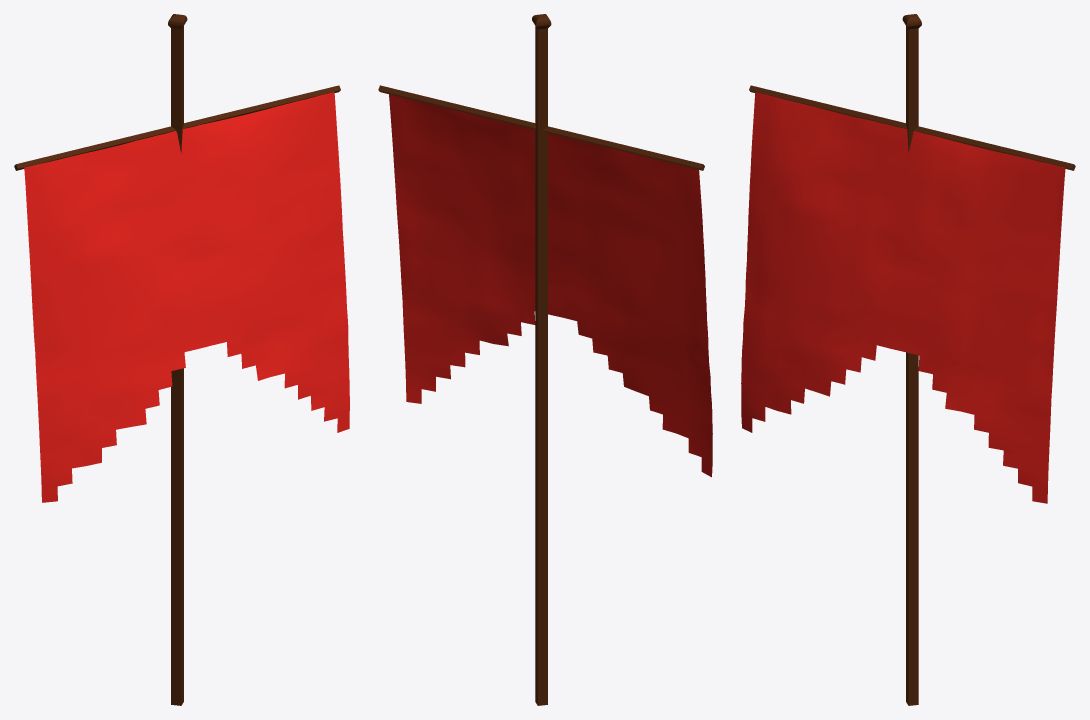
File: poi-flag.glb
The picture shows the model from 3 angles, left to right: view 1: azimuth 30°, elevation 25°; view 2: azimuth 150°, elevation 25°; view 3: azimuth 330°, elevation 25°; orthographic projection.
Visible parts, largest first — view 1: Plane, Cylinder, Cylinder.001; view 2: Plane, Cylinder, Cylinder.001; view 3: Plane, Cylinder, Cylinder.001.
Part boxes in pixels (x1,y1,x2,y2): Plane: [24, 92, 349, 502]; Cylinder: [168, 14, 187, 705]; Cylinder.001: [14, 85, 340, 170]; Plane: [389, 94, 712, 477]; Cylinder: [532, 14, 551, 705]; Cylinder.001: [378, 85, 704, 170]; Plane: [741, 92, 1065, 503]; Cylinder: [902, 14, 921, 705]; Cylinder.001: [749, 85, 1075, 170].
Size of the model in its own units: 10 by 20.32 by 1.68.
